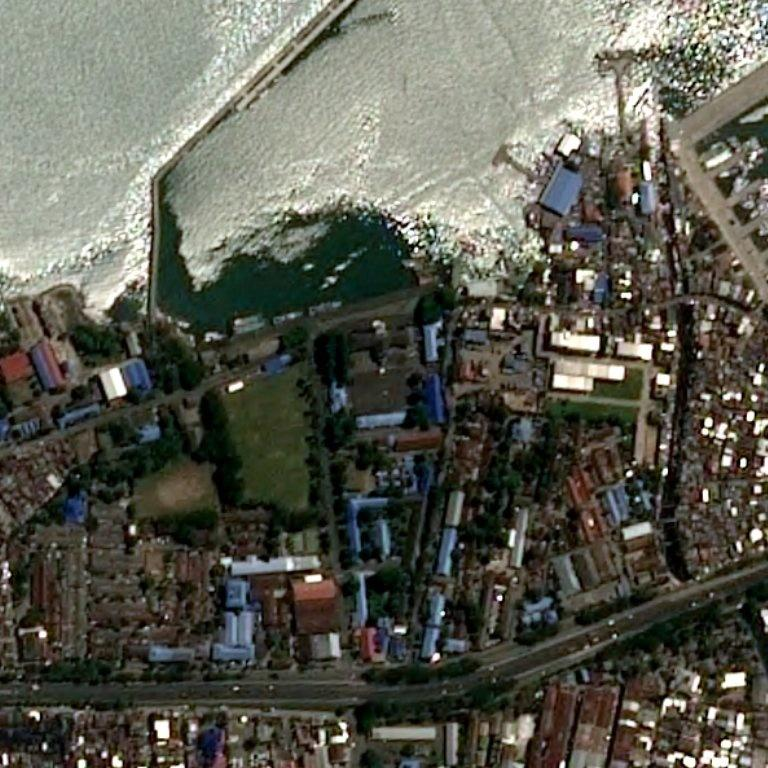ship: (304, 298, 351, 316), (230, 318, 267, 336), (270, 307, 304, 313), (305, 306, 309, 310), (338, 300, 341, 304), (299, 313, 302, 316), (272, 315, 274, 319), (264, 321, 266, 325), (233, 312, 235, 315), (306, 313, 308, 314), (43, 322, 44, 322), (5, 311, 5, 311)
